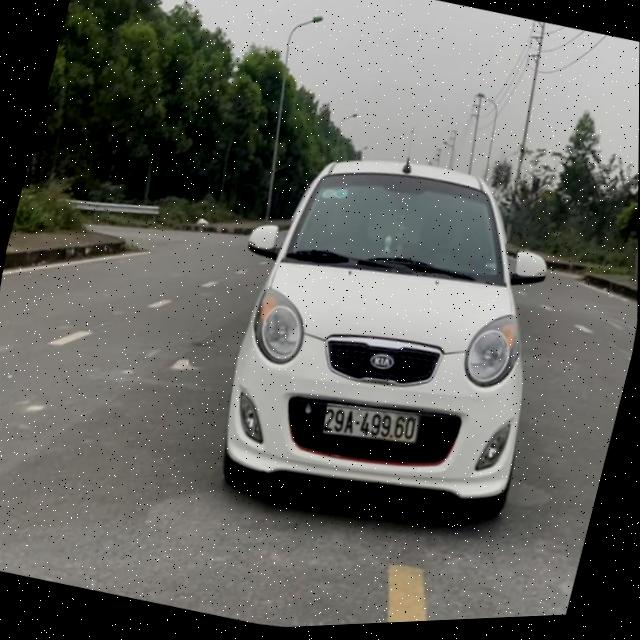car: (198, 119, 579, 552)
plate: (314, 386, 427, 461)
